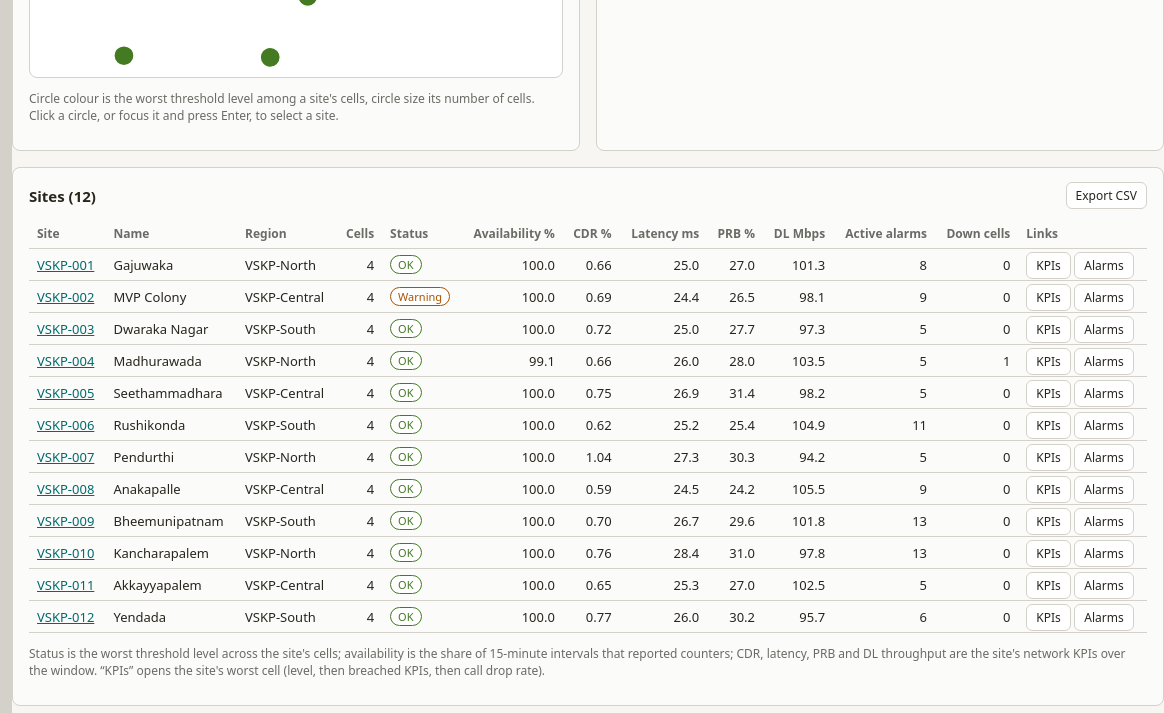
it: Sites page (synthetic dataset, 7d window from the URL) › selects a site from its link: URL, row, map circle and a detail panel with its cells and alarm link
The image size is (1164, 713).
(page scrolled)
Step 1. Click the link "VSKP-004" → (66,361), box [37,352,94,370]
(page scrolled)
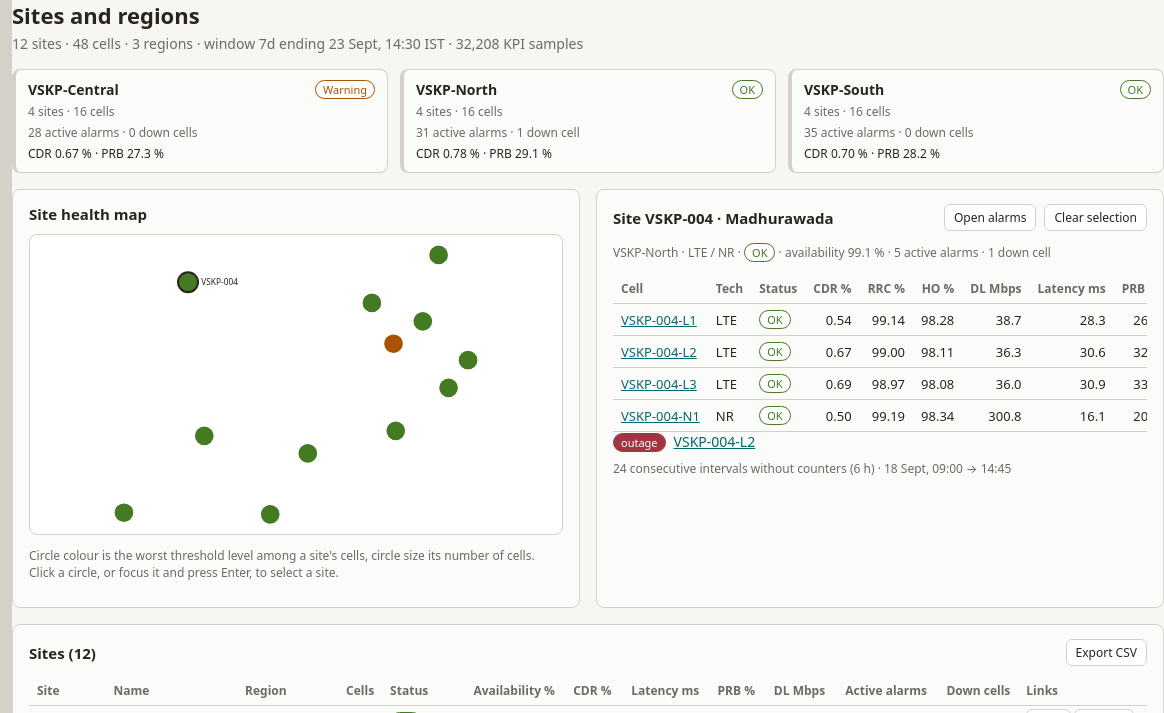
Now the text "24 consecutive intervals without counters" is shown, box [613,460,874,477]
Step 2. Click the button "Clear selection" → (1096,218), box [1044,204,1147,231]
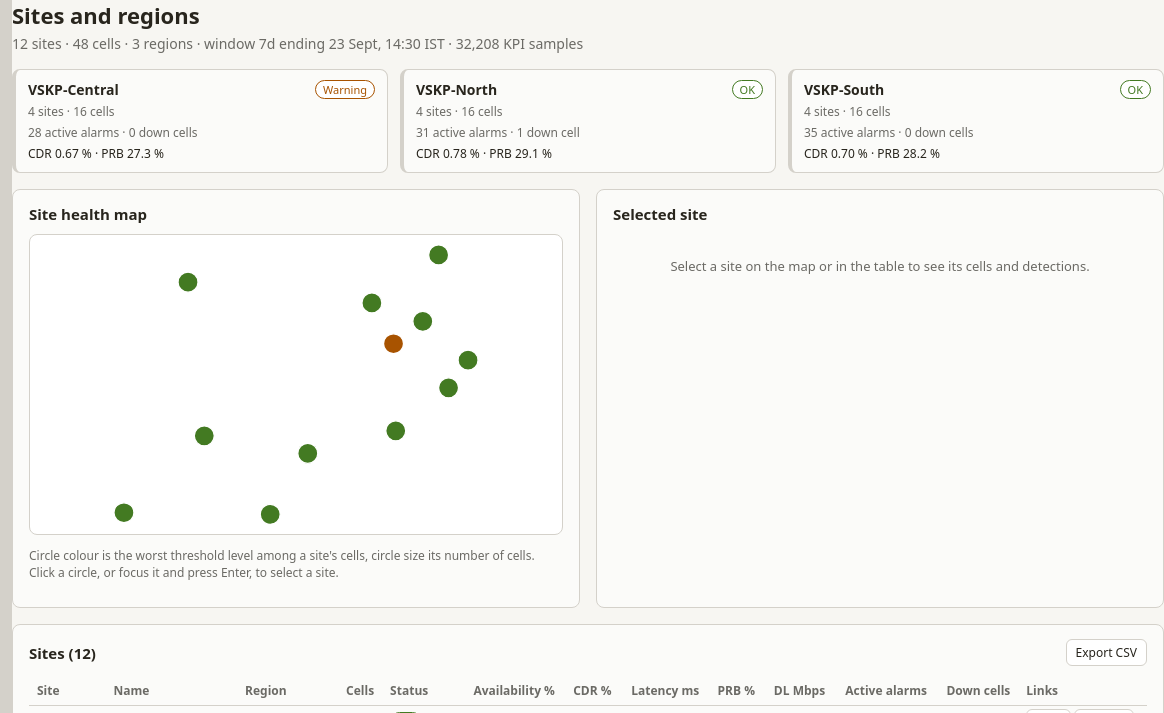
Now the row "Cell Tech Status CDR % RRC % HO % DL Mbps Latency ms PRB %" is gone
Now the heading "Site VSKP-004" is gone
